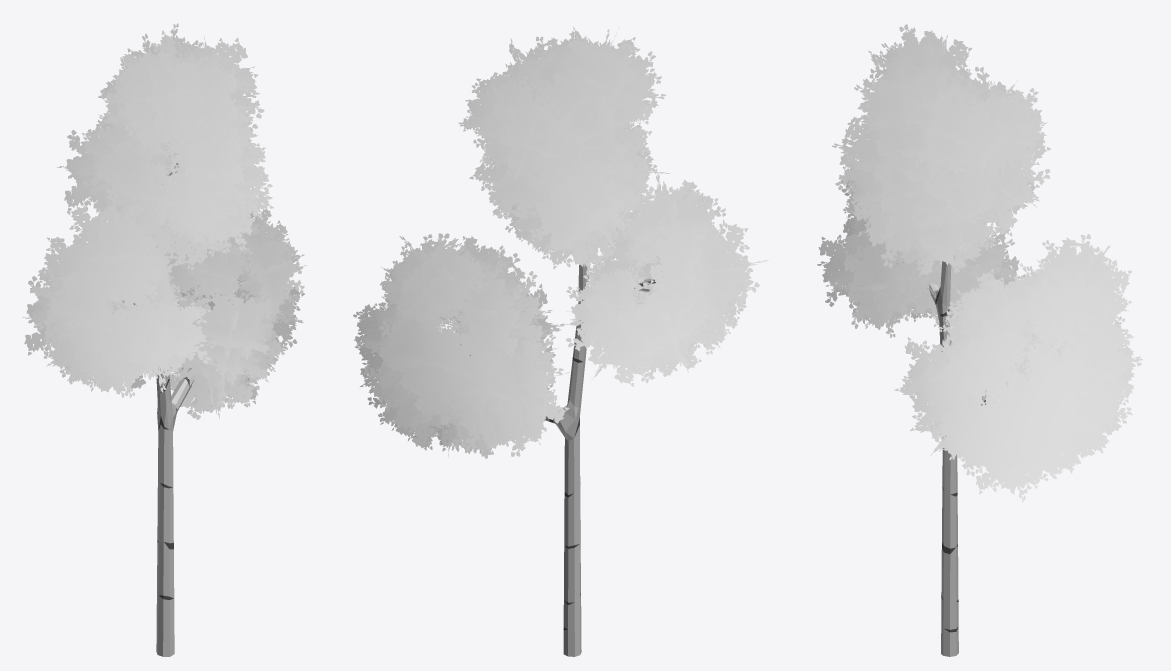
The model's file is mesh_tree_birch_03.fbx.
The picture shows the model from 3 angles, left to right: view 1: azimuth 30°, elevation 25°; view 2: azimuth 150°, elevation 25°; view 3: azimuth 270°, elevation 25°; orthographic projection.
Visible parts, largest first — view 1: mesh_tree_birch_03_leaves_LOD0, mesh_tree_birch_03_trunk_LOD0; view 2: mesh_tree_birch_03_leaves_LOD0, mesh_tree_birch_03_trunk_LOD0; view 3: mesh_tree_birch_03_leaves_LOD0, mesh_tree_birch_03_trunk_LOD0.
Boxes of the visible parts, x1,y1,x2,y2 form: mesh_tree_birch_03_leaves_LOD0: [22, 23, 306, 419]; mesh_tree_birch_03_trunk_LOD0: [122, 163, 198, 656]; mesh_tree_birch_03_leaves_LOD0: [353, 26, 768, 458]; mesh_tree_birch_03_trunk_LOD0: [459, 264, 655, 656]; mesh_tree_birch_03_leaves_LOD0: [817, 24, 1142, 502]; mesh_tree_birch_03_trunk_LOD0: [927, 261, 986, 656].
Size of what is drawn, in the model's own units: 4.38 by 7.59 by 3.81.
